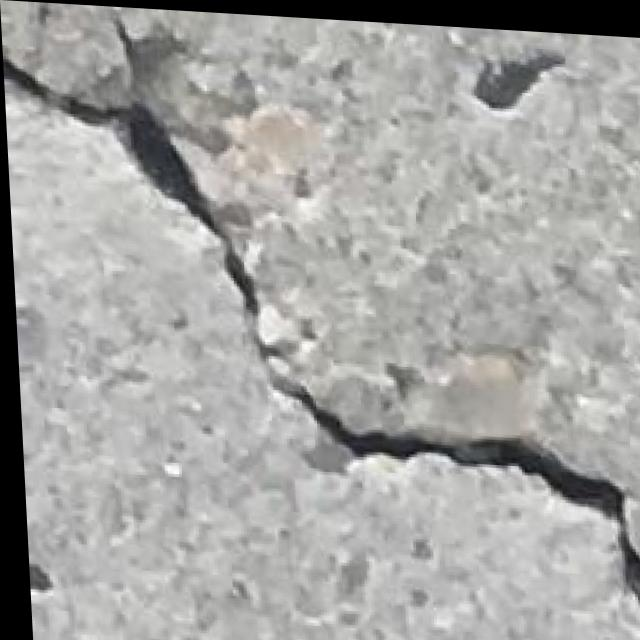Crack: (5, 43, 640, 619)
